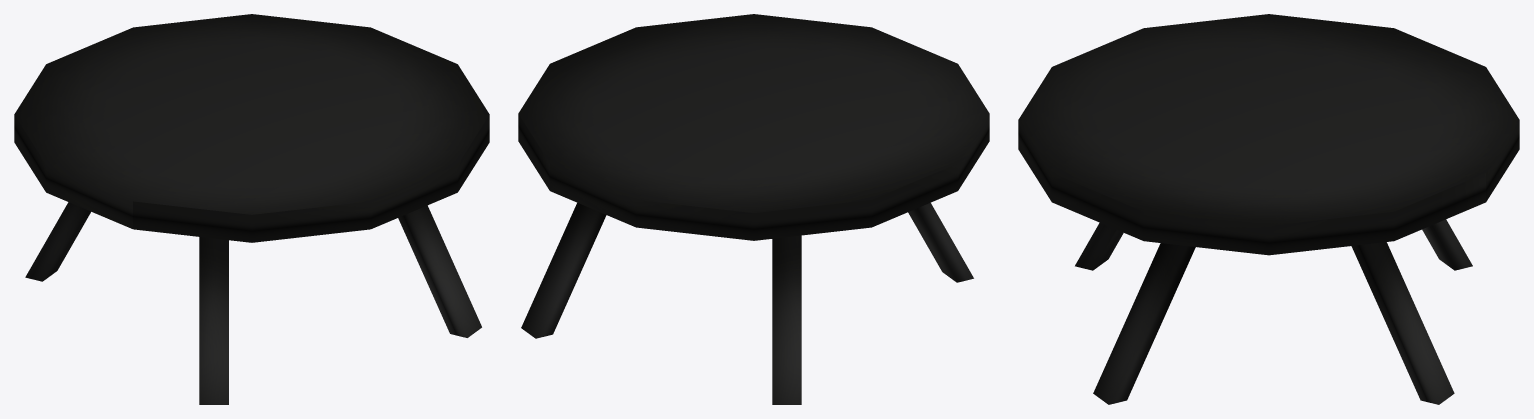
File: couchtable.fbx
3 views of the same model, side by side, from view 1: azimuth 30°, elevation 25°; view 2: azimuth 150°, elevation 25°; view 3: azimuth 270°, elevation 25° (orthographic). The views are drawn at different scales.
Parts seen in each view (by area): view 1: pCylinder2; view 2: pCylinder2; view 3: pCylinder2.
Boxes of the visible parts, x1,y1,x2,y2 form: pCylinder2: (14, 14, 489, 404); pCylinder2: (518, 14, 989, 404); pCylinder2: (1018, 14, 1519, 404).
Bounding box in the file's own units: 27.58 × 12.48 × 27.58.
Materials: 1 (1 with a texture image).
